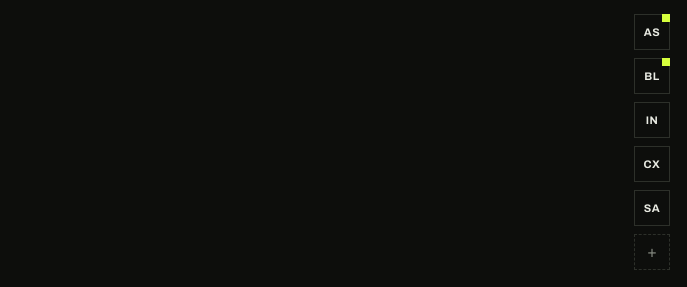
Test: Rail project context menu › right-clicking a project tile removes it from the rail, leaving its files on disk
Right-click the button "AS" at (652, 32), box top-left (634, 14), bottom-right (670, 50)
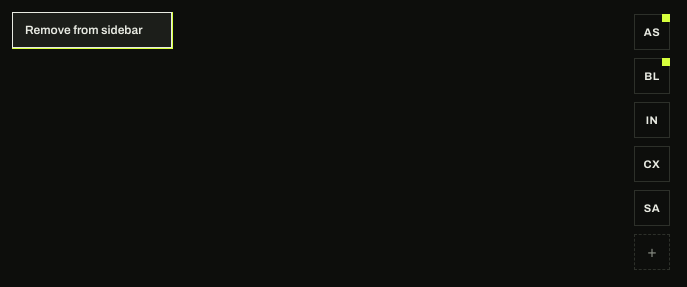
Click the menu item "Remove from sidebar" at (92, 30), box top-left (13, 13), bottom-right (171, 47)
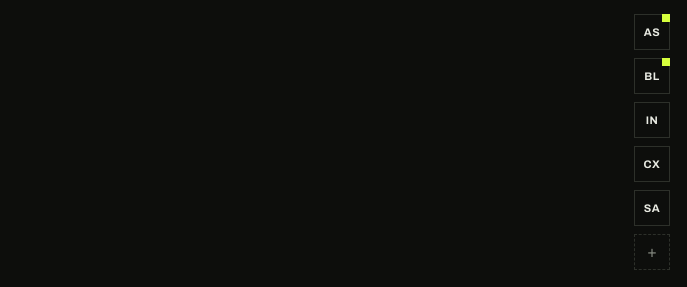
Expected: the menu is gone
